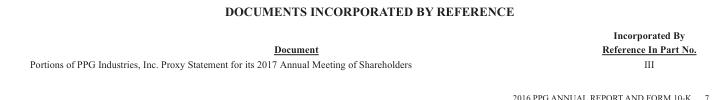table: (28, 29, 695, 69)
table column: (28, 29, 506, 69), (506, 29, 695, 69)
table column header: (28, 29, 695, 41)
table row: (28, 41, 695, 56), (28, 56, 695, 69), (28, 29, 695, 41)
